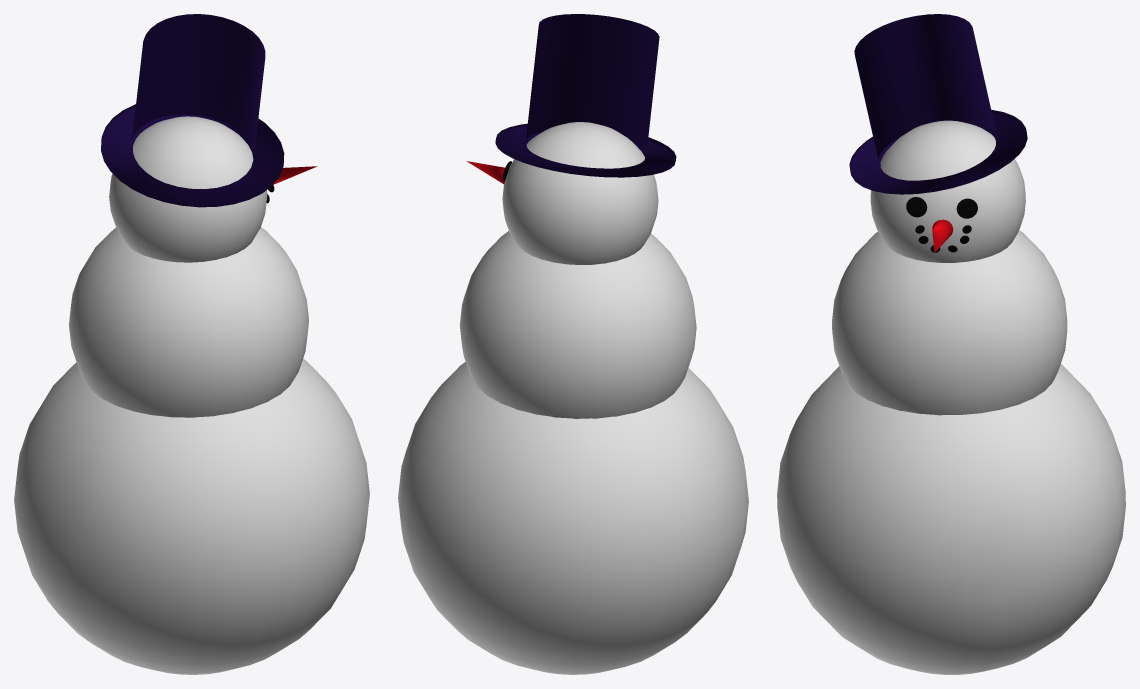
Rendered from snowman.glb.
The picture shows the model from 3 angles, left to right: view 1: azimuth 30°, elevation 25°; view 2: azimuth 150°, elevation 25°; view 3: azimuth 270°, elevation 25°; orthographic projection.
Parts seen in each view (by area): view 1: Сфера.008; view 2: Сфера.008; view 3: Сфера.008.
Boxes of the visible parts, x1,y1,x2,y2 form: Сфера.008: (14, 14, 369, 674); Сфера.008: (398, 14, 748, 674); Сфера.008: (777, 14, 1125, 674).
Size of the model in its own units: 2.31 by 4.57 by 2.31.
